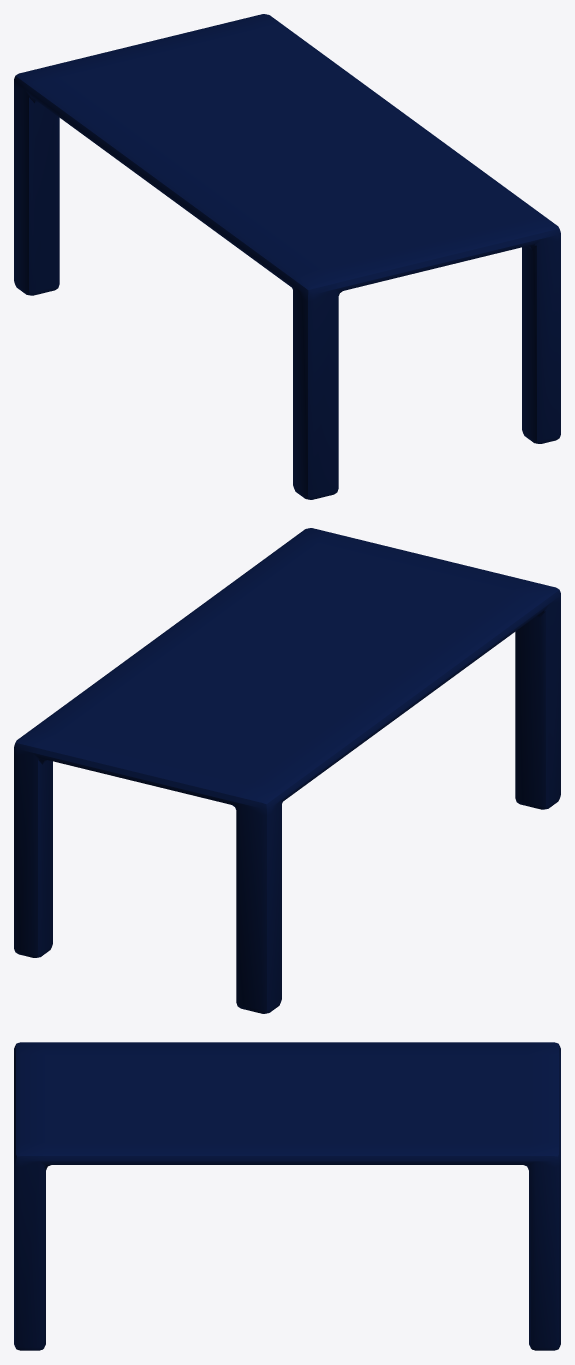
Rendered from tabledüz.fbx.
The picture shows the model from 3 angles, top to bottom: view 1: azimuth 30°, elevation 25°; view 2: azimuth 150°, elevation 25°; view 3: azimuth 270°, elevation 25°; orthographic projection. The views are drawn at different scales.
Visible parts, largest first — view 1: Plane; view 2: Plane; view 3: Plane.
Boxes of the visible parts, x1,y1,x2,y2 form: Plane: (14,14,560,499); Plane: (14,528,560,1013); Plane: (14,1042,560,1350).
Bounding box in the file's own units: 200 × 160 × 400.
